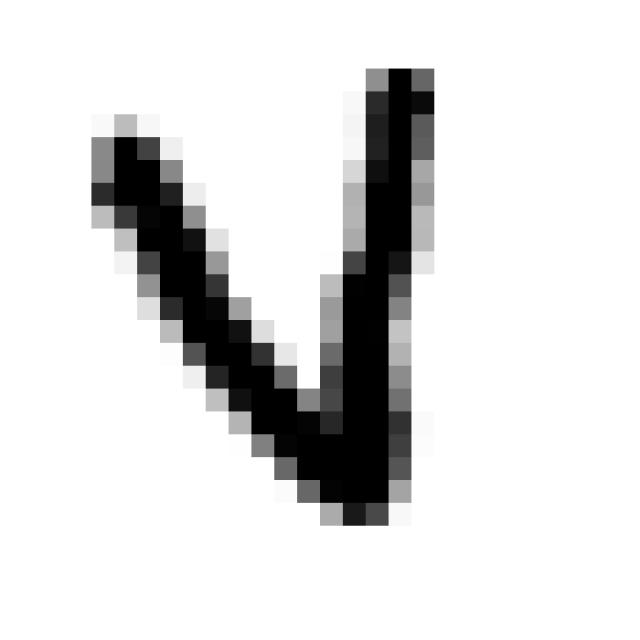7 -seven-: (76, 39, 452, 538)
